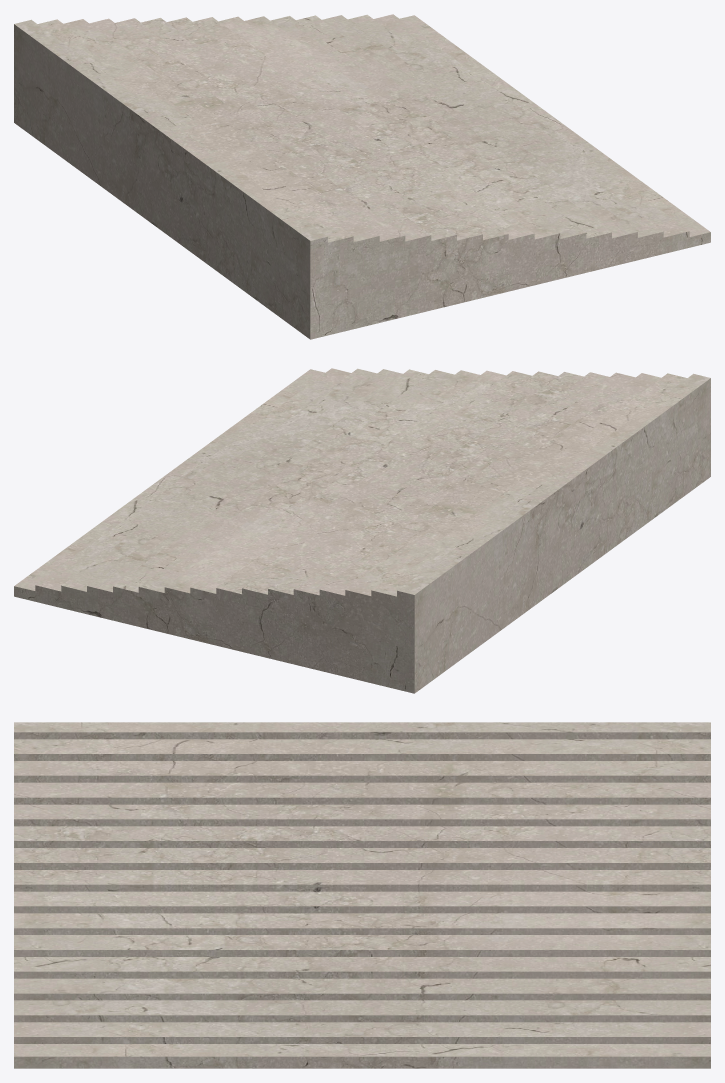
File: pasted__marble_tile_106.fbx
3 renders of one model, top to bottom at view 1: azimuth 30°, elevation 25°; view 2: azimuth 150°, elevation 25°; view 3: azimuth 270°, elevation 25°, orthographic. The views are drawn at different scales.
Parts seen in each view (by area): view 1: pasted__marble_tile_106; view 2: pasted__marble_tile_106; view 3: pasted__marble_tile_106.
Boxes of the visible parts, left/top/right/bottom form: pasted__marble_tile_106: left=14, top=14, right=710, bottom=339; pasted__marble_tile_106: left=14, top=368, right=710, bottom=693; pasted__marble_tile_106: left=14, top=722, right=710, bottom=1068.
Size of the model in its own units: 214 by 274 by 50.62.
